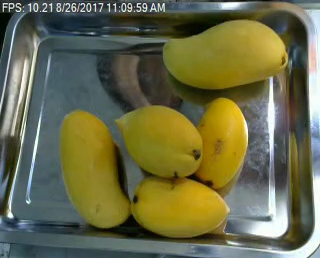Mango: (49, 105, 134, 227), (158, 17, 289, 92), (127, 176, 231, 243), (115, 102, 203, 181), (190, 92, 250, 192)
